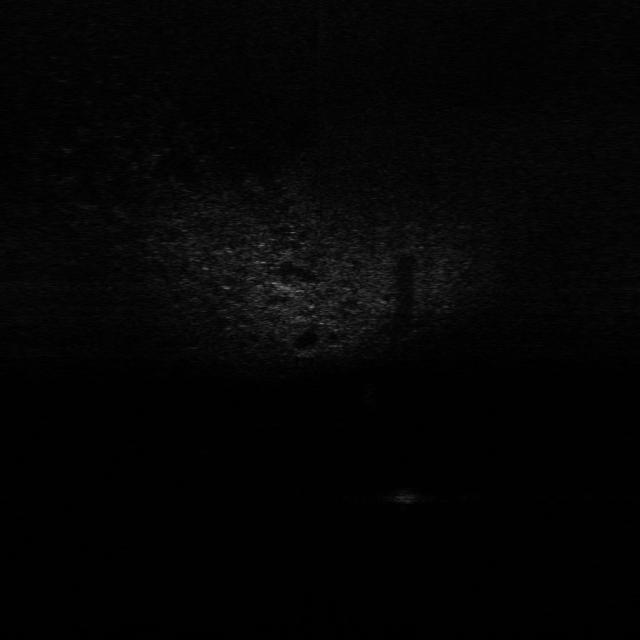cylinder: (387, 481, 419, 506)
